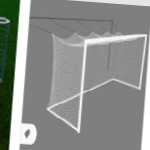goals: (46, 30, 148, 135)
